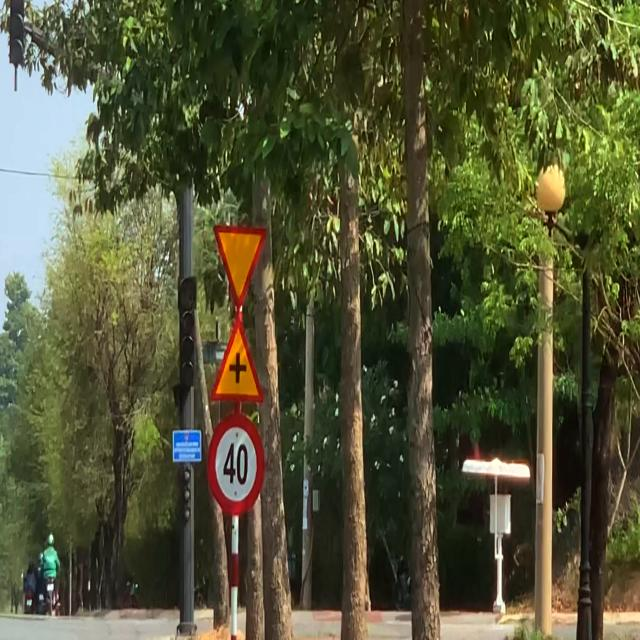Duong giao nhau: (208, 308, 264, 408)
Giao voi duong uu tien: (210, 218, 269, 314)
Toc do toi da: (204, 416, 266, 520)
